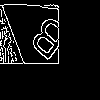B: (21, 13, 72, 70)
